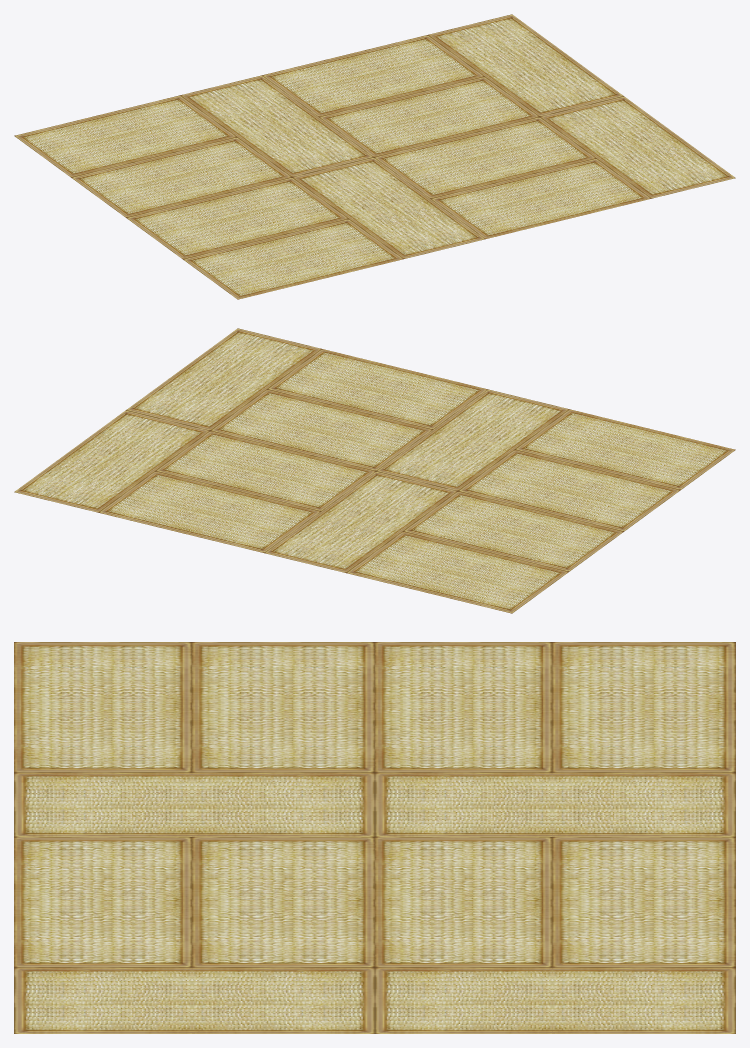
Rendered from a_SCtrtile01.glb.
3 renders of one model, top to bottom at view 1: azimuth 30°, elevation 25°; view 2: azimuth 150°, elevation 25°; view 3: azimuth 270°, elevation 25°, orthographic. The views are drawn at different scales.
Visible parts, largest first — view 1: a_SCtrtile01; view 2: a_SCtrtile01; view 3: a_SCtrtile01.
Part boxes in pixels (box(x1,y1,x2,y2)): a_SCtrtile01: box(14, 14, 735, 299); a_SCtrtile01: box(14, 328, 735, 613); a_SCtrtile01: box(14, 642, 735, 1033).
Size of the model in its own units: 9.02 by 0 by 7.02.
1 material, 1 textured.
